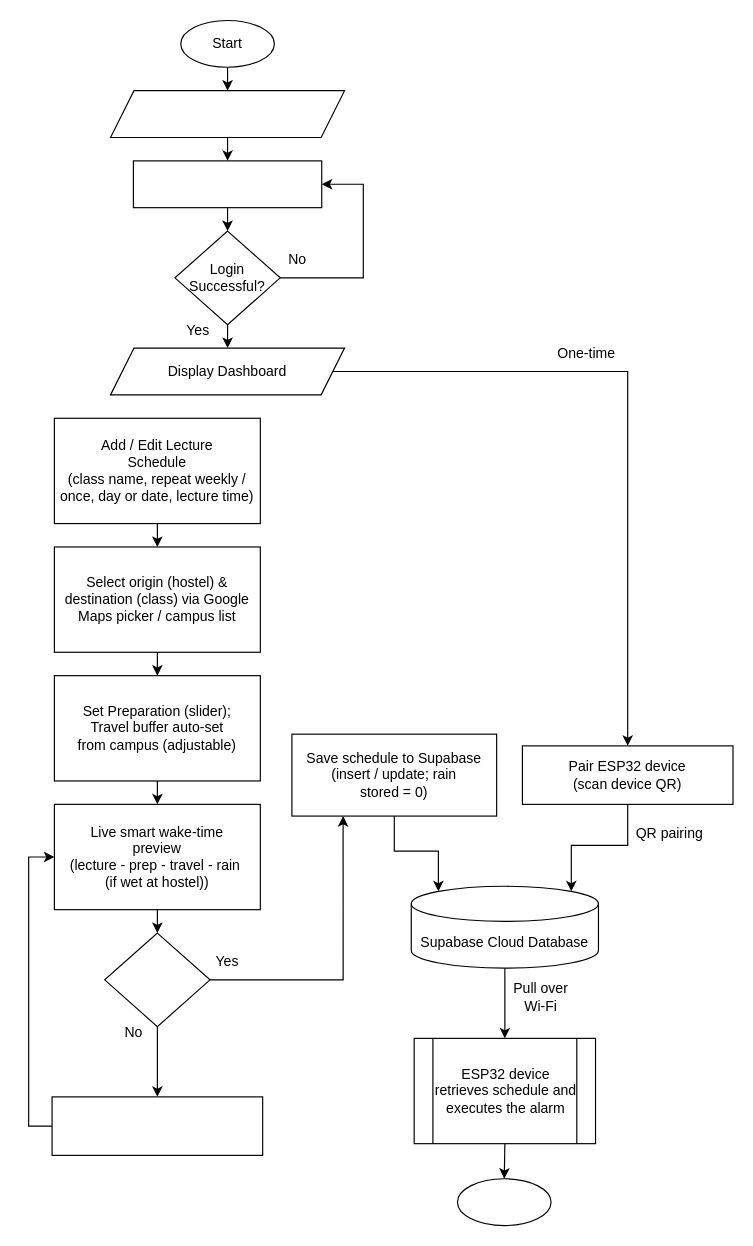
This 753x1246 diagram has some shape labels left out. The centre of each missing label's shape, as x and y in pixels:
"Adjust Preparation / Travel Buffer" goes at point 157,1125.
"End" goes at point 503,1202.
"Launch Mobile Application" goes at point 227,113.
"Sign in with Google (SSO)" goes at point 227,184.
"Wake time OK?" goes at point 157,979.
